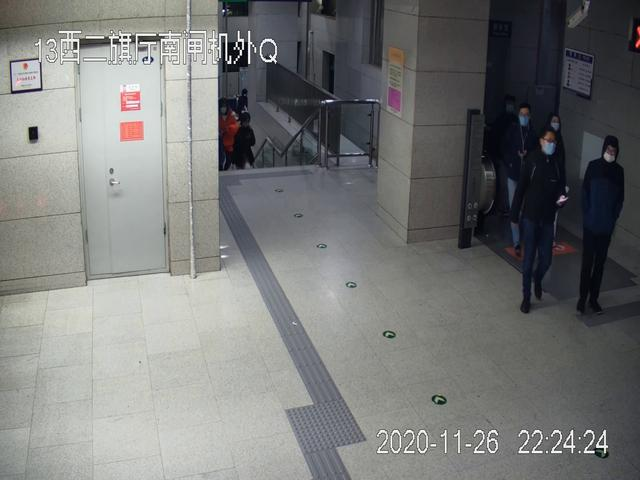person: (574, 135, 627, 315), (518, 127, 566, 314)
